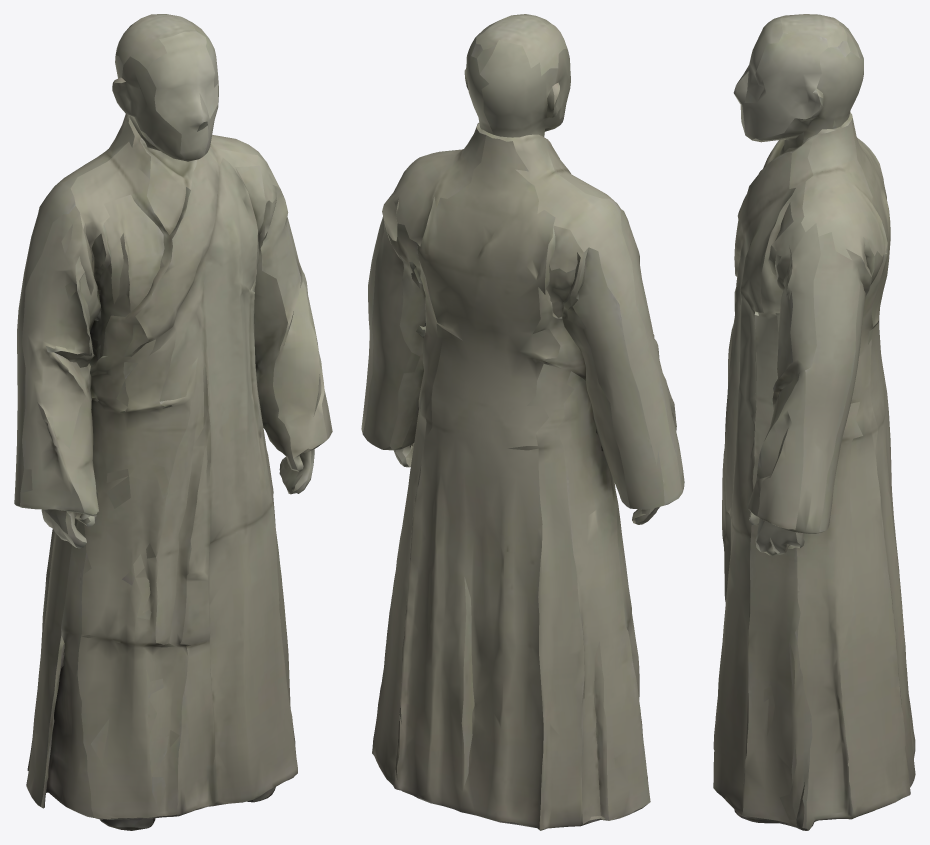
Rendered from S0-37_paper_effigy_A.glb.
The picture shows the model from 3 angles, left to right: view 1: azimuth 30°, elevation 25°; view 2: azimuth 150°, elevation 25°; view 3: azimuth 270°, elevation 25°; orthographic projection.
Visible parts, largest first — view 1: geometry_0; view 2: geometry_0; view 3: geometry_0.
Boxes of the visible parts, <box> form: geometry_0: <box>14,14,332,830</box>; geometry_0: <box>361,14,684,830</box>; geometry_0: <box>713,14,915,830</box>.
Size of the model in its own units: 0.7241 by 1.7 by 0.4078.
1 material, 1 textured.
